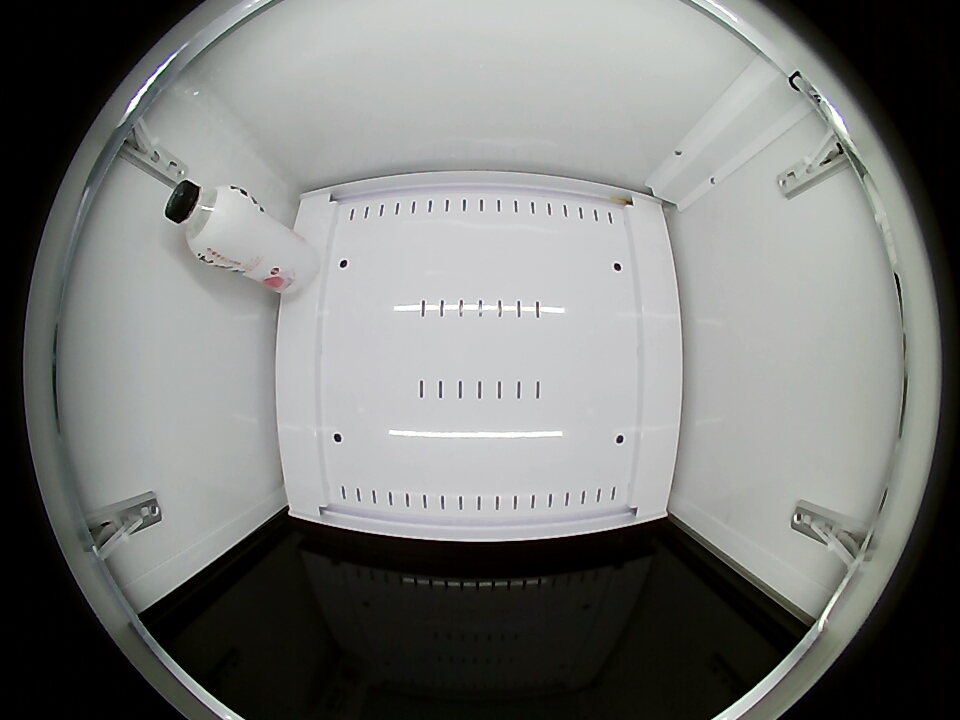yuanqishui: (164, 179, 251, 262)
